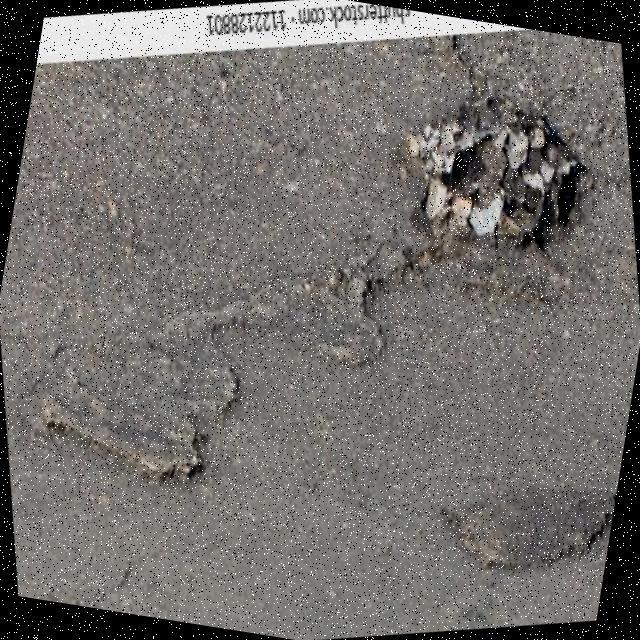Pothole: (401, 94, 587, 245)
